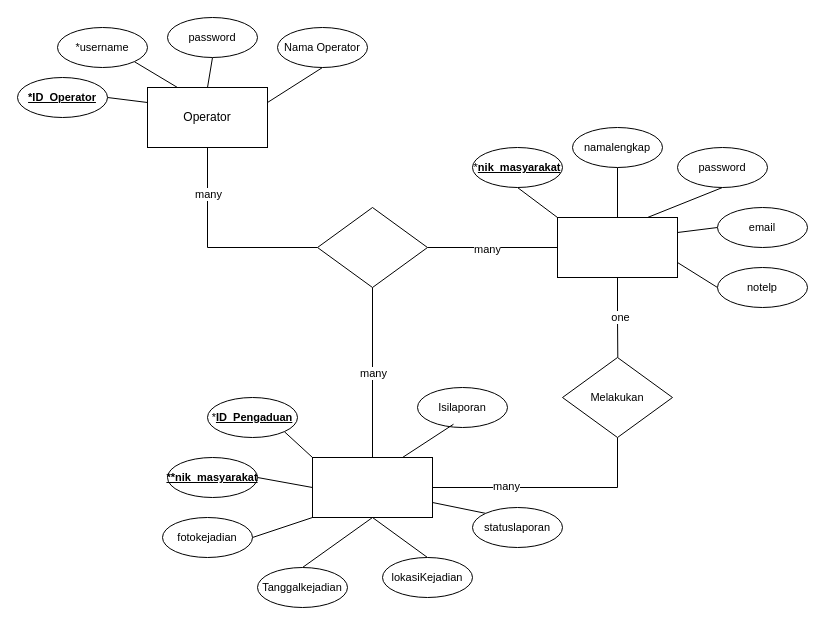
The diagram is 825 pixels wide and 625 high, and some of its shapes have lost their labels. Here are the shapes that lost their labels. From the top down, the centre of each, then its label:
At pixel 372 247: "Mengelola".
At pixel 617 247: "Masyarakat".
At pixel 372 487: "Laporan".
